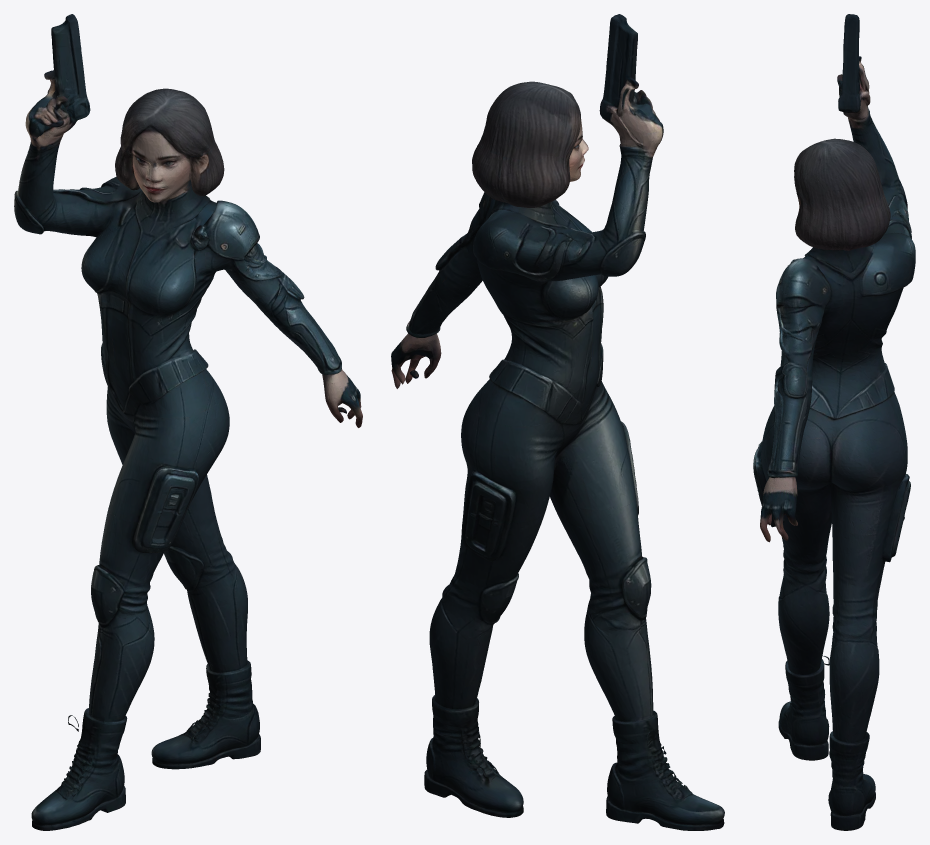
The model's file is aiprintgen_Девушка-агент с пистолетом-preview.glb.
The picture shows the model from 3 angles, left to right: view 1: azimuth 30°, elevation 25°; view 2: azimuth 150°, elevation 25°; view 3: azimuth 270°, elevation 25°; orthographic projection. The views are drawn at different scales.
Visible parts, largest first — view 1: aiprintgen_tmp3o705lwm.obj; view 2: aiprintgen_tmp3o705lwm.obj; view 3: aiprintgen_tmp3o705lwm.obj.
Boxes of the visible parts, <box> form: aiprintgen_tmp3o705lwm.obj: <box>14,14,362,830</box>; aiprintgen_tmp3o705lwm.obj: <box>391,14,724,830</box>; aiprintgen_tmp3o705lwm.obj: <box>753,14,915,830</box>.
Size of the model in its own units: 0.8174 by 1.89 by 0.3791.
Materials: 1 (1 with a texture image).
